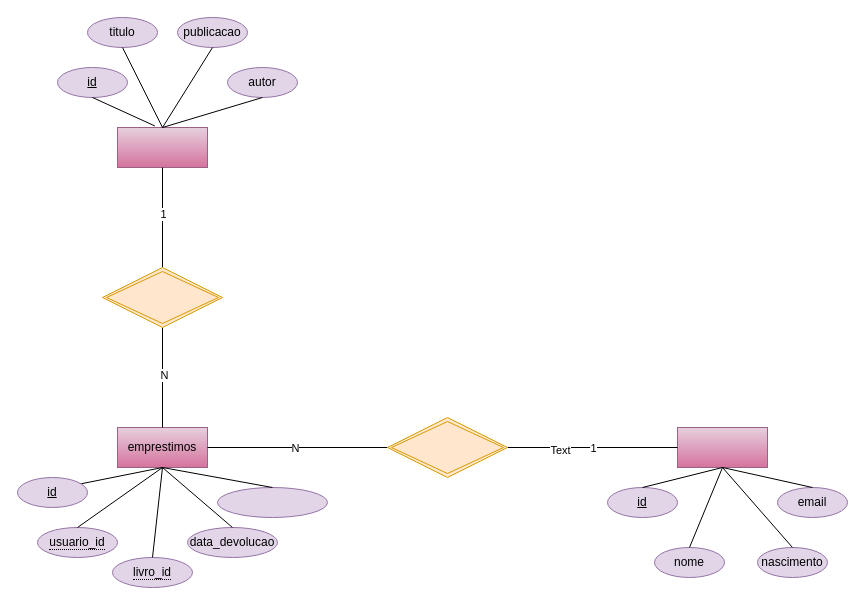
The diagram is 865 pixels wide and 605 high, and some of its shapes have lost their labels. Here are the shapes that lost their labels. From the top down, the centre of each, then its label:
At (x=162, y=147): "livros".
At (x=162, y=297): "contém".
At (x=447, y=447): "fazem".
At (x=722, y=447): "usuários".
At (x=272, y=502): "data_emprestimo".
